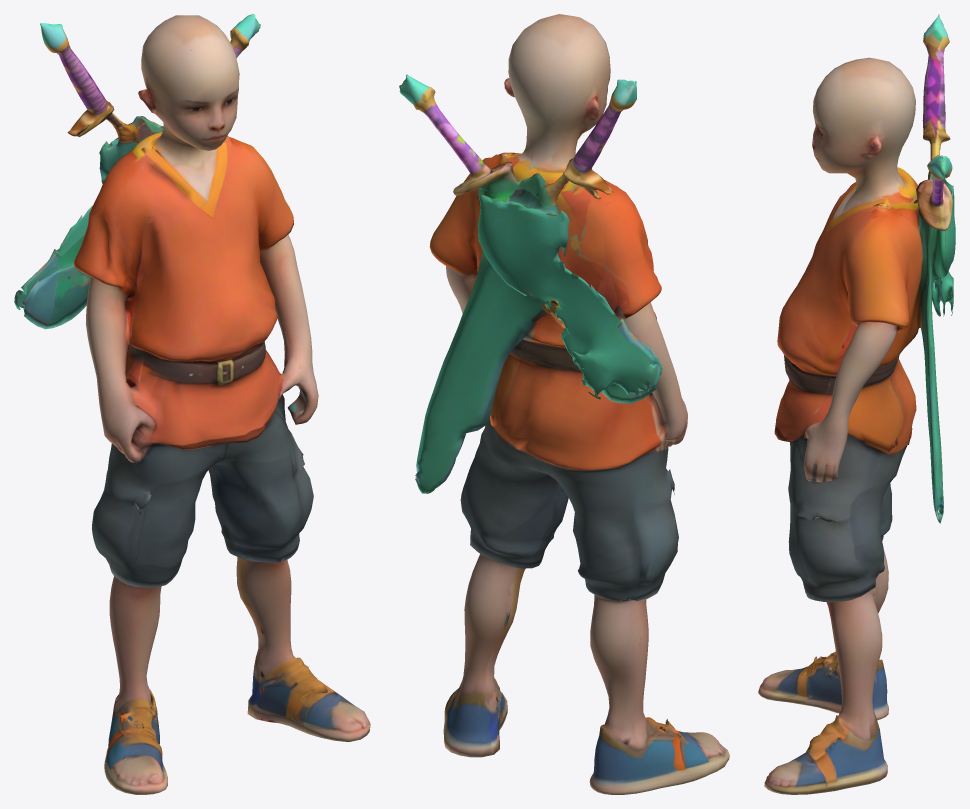
Rendered from keloglan.glb.
3 renders of one model, left to right at view 1: azimuth 30°, elevation 25°; view 2: azimuth 150°, elevation 25°; view 3: azimuth 270°, elevation 25°, orthographic. The views are drawn at different scales.
Bounding box in the file's own units: 0.8027 × 2 × 0.5299.
Materials: 1 (1 with a texture image).
